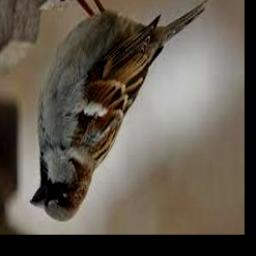Sparrow: (30, 0, 207, 221)
